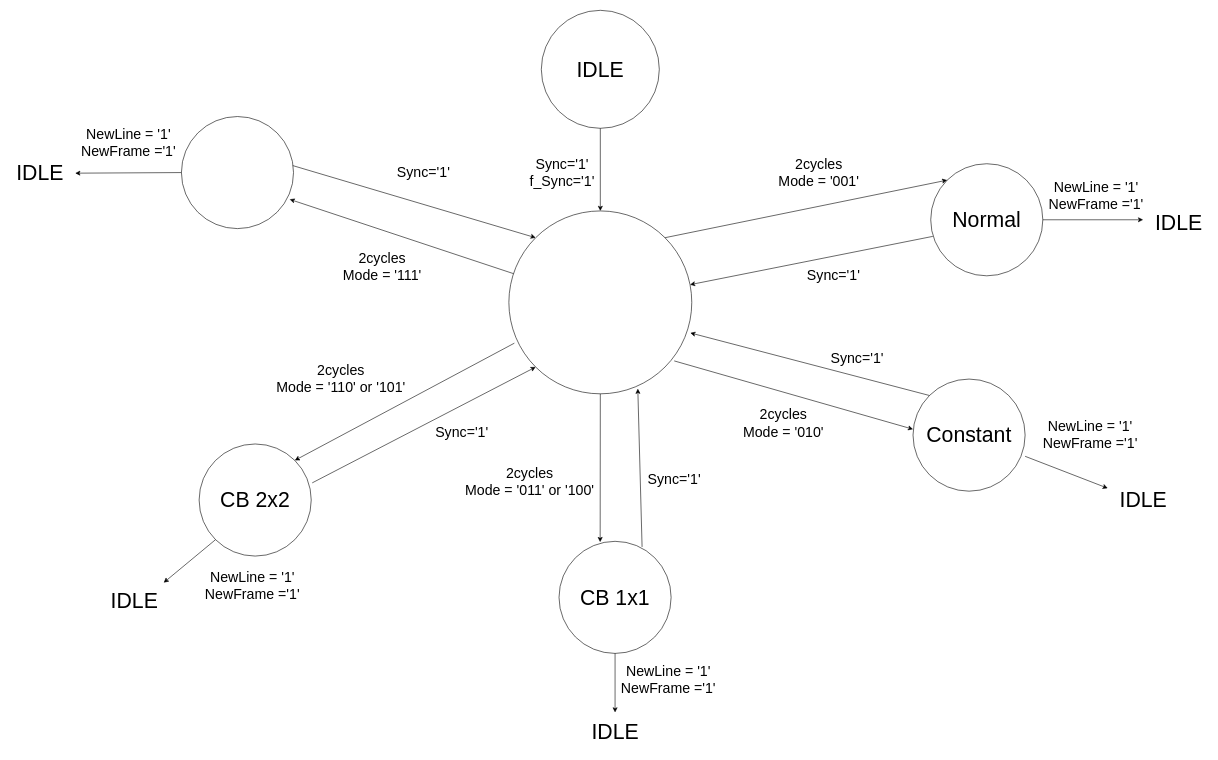
Image size: 1218x760. Some labels were removed from this diagram. The box of each missing label's shape, as (x1, y1, x2, y2) in pixels:
Ramp: (181, 116, 294, 229)
Start: (508, 210, 692, 394)
